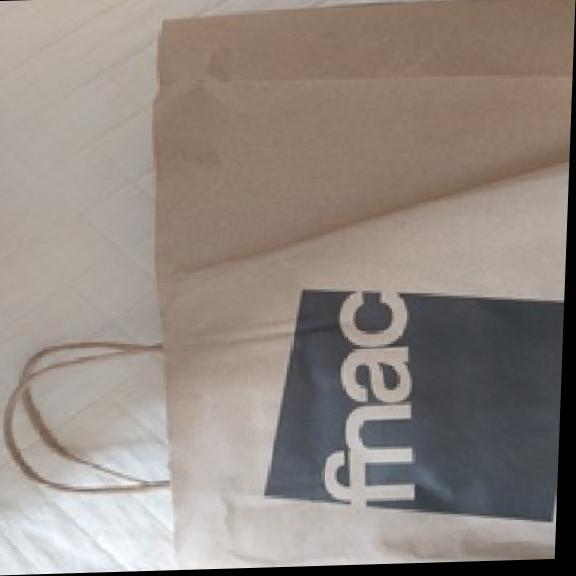Kertas: (154, 0, 573, 570)
